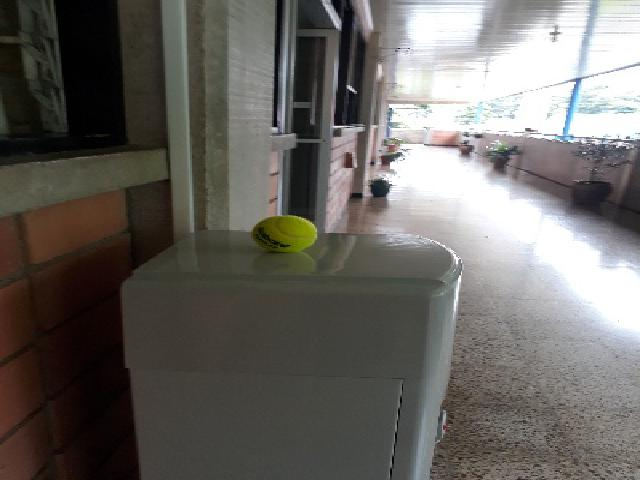Ball: (250, 216, 317, 254)
